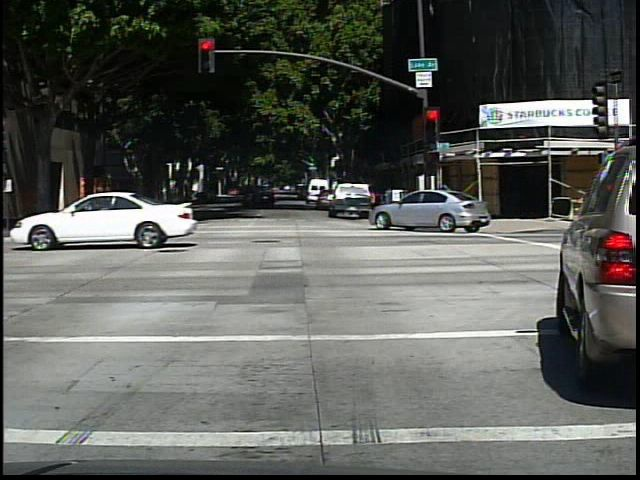person: (90, 186, 106, 221)
